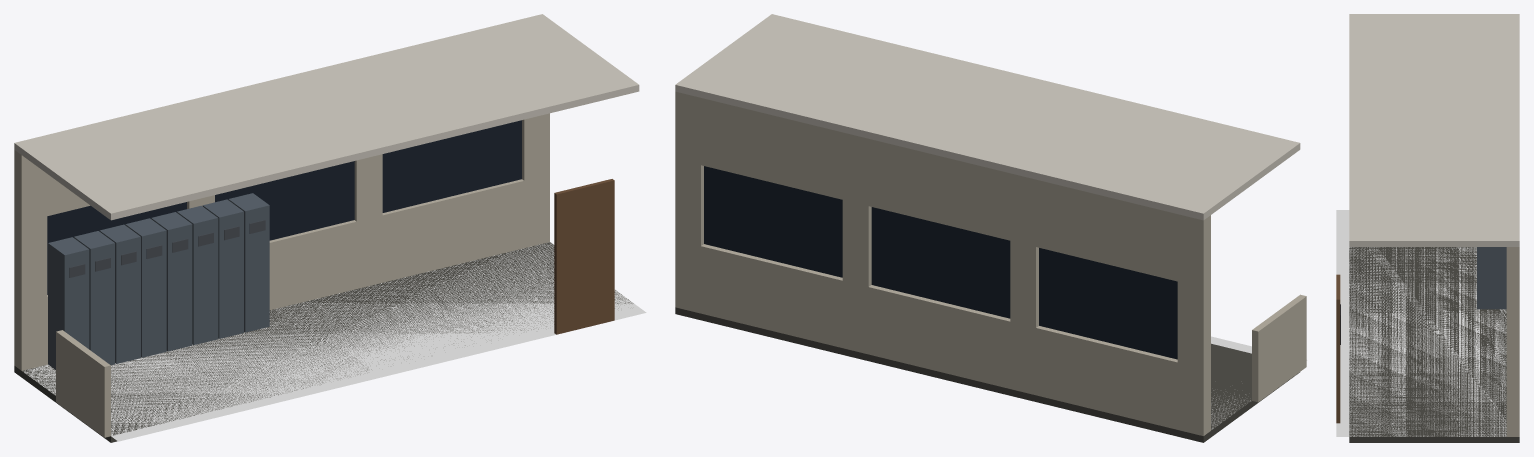
File: corridor.glb
The picture shows the model from 3 angles, left to right: view 1: azimuth 30°, elevation 25°; view 2: azimuth 150°, elevation 25°; view 3: azimuth 270°, elevation 25°; orthographic projection. The views are drawn at different scales.
Visible parts, largest first — view 1: CorridorShell, CorridorDetail, Walk_Corridor; view 2: CorridorShell, CorridorDetail; view 3: CorridorShell, Walk_Corridor, CorridorDetail.
Boxes of the visible parts, x1=… form: CorridorShell: x1=14, y1=14, x2=639, y2=442; CorridorDetail: x1=47, y1=120, x2=614, y2=369; Walk_Corridor: x1=24, y1=242, x2=646, y2=441; CorridorShell: x1=675, y1=14, x2=1306, y2=442; CorridorDetail: x1=704, y1=166, x2=1177, y2=359; CorridorShell: x1=1349, y1=14, x2=1519, y2=442; Walk_Corridor: x1=1336, y1=210, x2=1506, y2=436; CorridorDetail: x1=1336, y1=247, x2=1506, y2=423.
Size of the model in its own units: 8.3 by 3.4 by 2.8.
